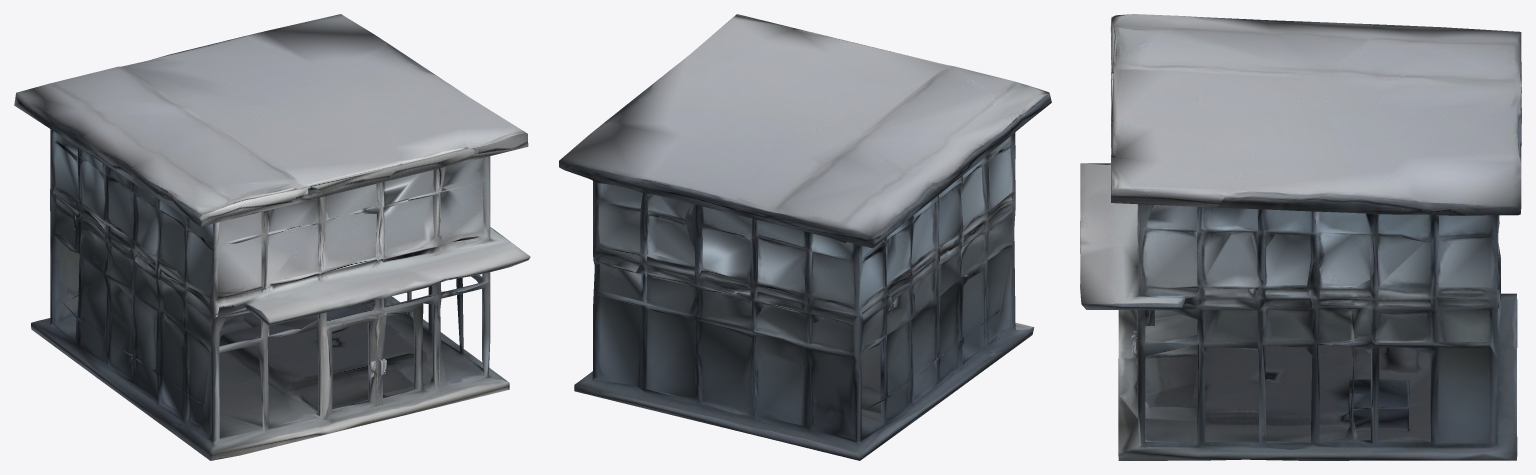
Rendered from haus_glas.glb.
The picture shows the model from 3 angles, left to right: view 1: azimuth 30°, elevation 25°; view 2: azimuth 150°, elevation 25°; view 3: azimuth 270°, elevation 25°; orthographic projection. The views are drawn at different scales.
Visible parts, largest first — view 1: tripo_node_a4d76170-1836-4e53-a572-85a11f8cb8ca; view 2: tripo_node_a4d76170-1836-4e53-a572-85a11f8cb8ca; view 3: tripo_node_a4d76170-1836-4e53-a572-85a11f8cb8ca.
Boxes of the visible parts, box(x1,y1,x2,y2) form: tripo_node_a4d76170-1836-4e53-a572-85a11f8cb8ca: box(14, 14, 530, 460); tripo_node_a4d76170-1836-4e53-a572-85a11f8cb8ca: box(559, 14, 1051, 460); tripo_node_a4d76170-1836-4e53-a572-85a11f8cb8ca: box(1080, 14, 1521, 460).
Bounding box in the file's own units: 0.9416 × 0.7113 × 0.9999.
1 material, 1 textured.
